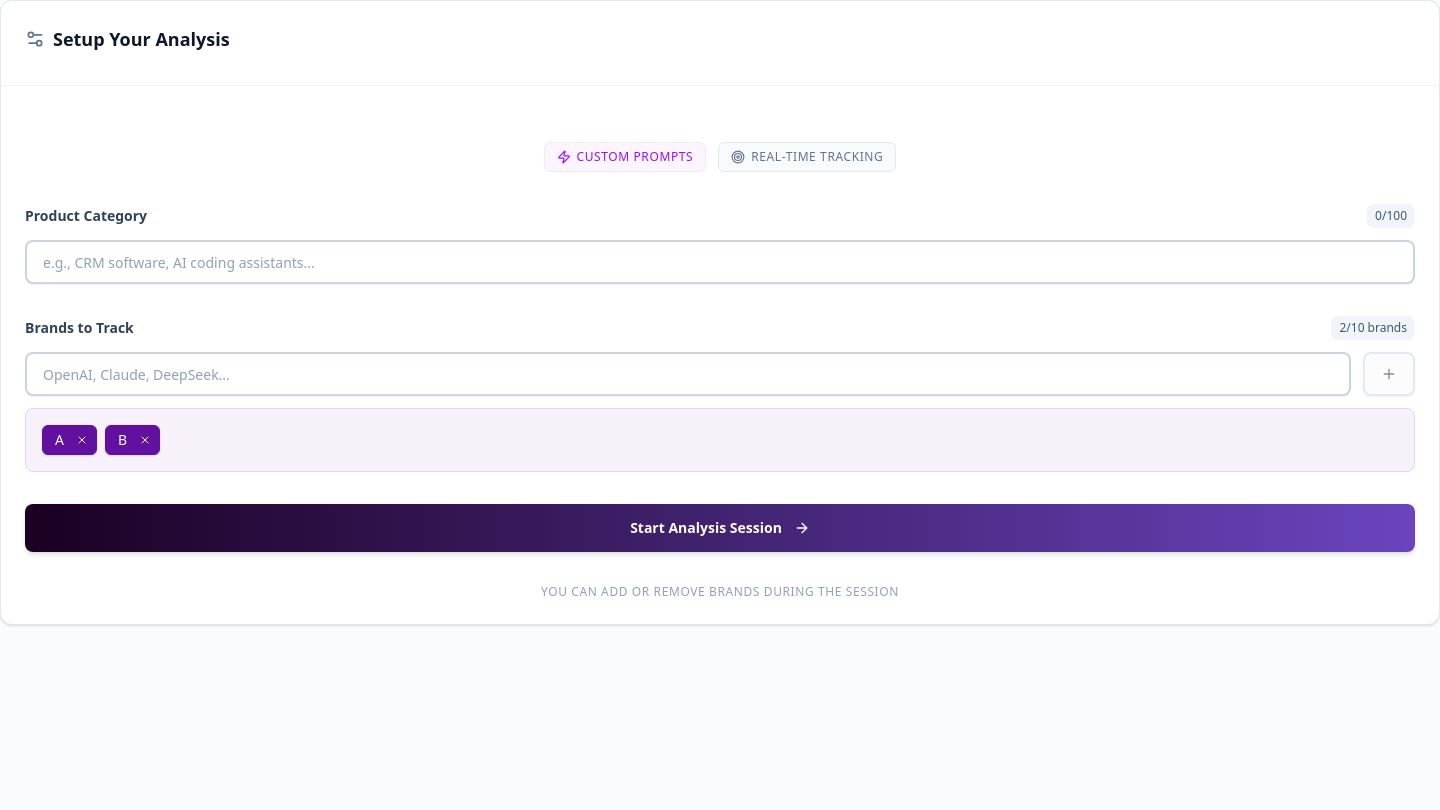
Test case: SessionSetup - extended coverage › category validation › shows error when category is empty
The image size is (1440, 810).
Click the button "Start Analysis Session": (720, 528) [25,504,1415,552]
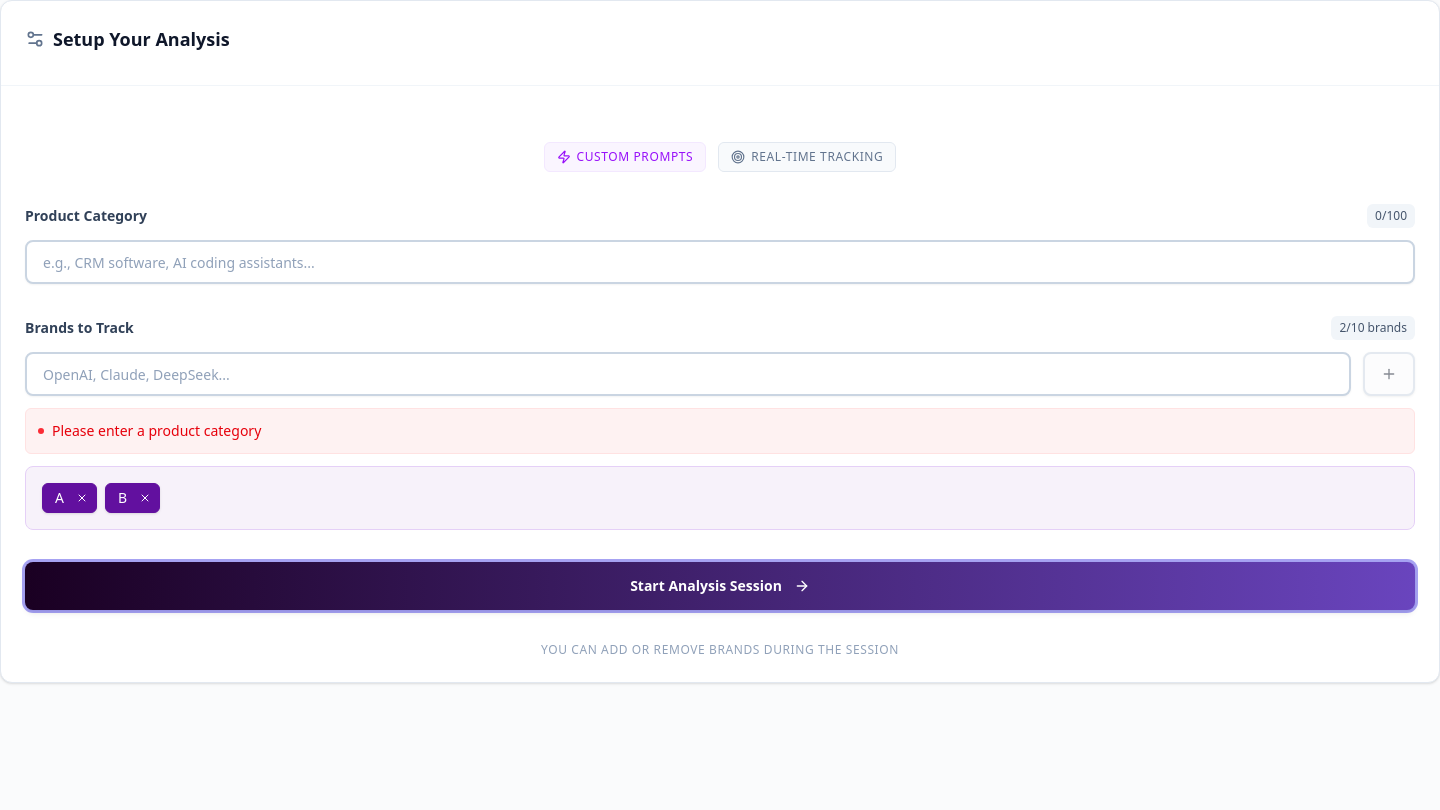
Result: the text "Please enter a product category" is shown at [25,408,1415,454]
